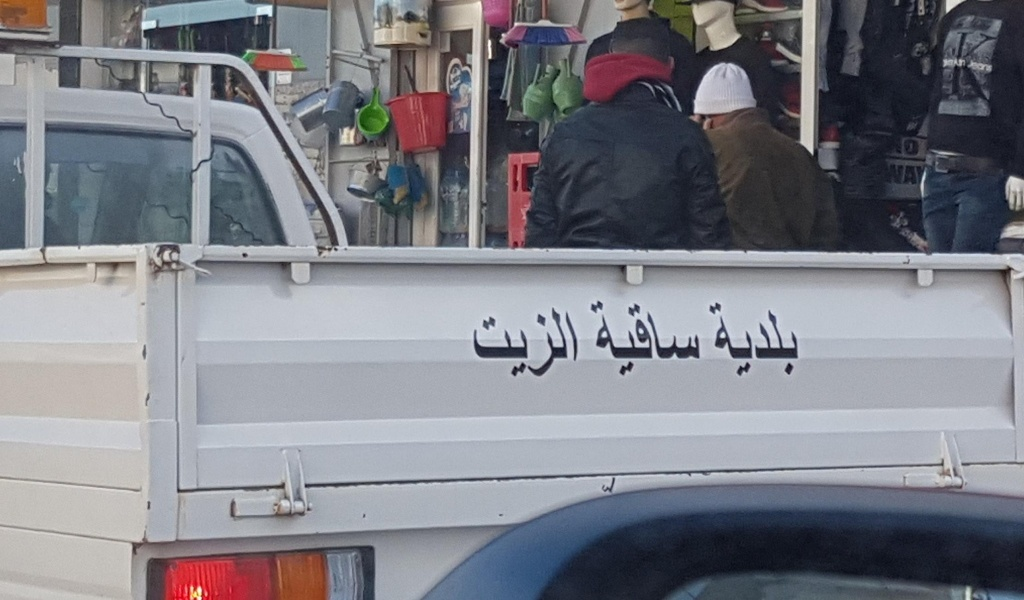text: (721, 301, 736, 378), (737, 301, 752, 378), (753, 301, 768, 378), (769, 301, 784, 378), (785, 301, 800, 378), (593, 301, 608, 377), (609, 301, 624, 377), (625, 301, 640, 377), (641, 301, 656, 377), (657, 301, 672, 377), (673, 301, 688, 377), (689, 301, 704, 377), (481, 308, 496, 379), (497, 308, 512, 379), (513, 308, 528, 379), (529, 308, 544, 379), (545, 308, 560, 379), (561, 308, 576, 379), (707, 301, 720, 378), (582, 301, 592, 377), (474, 308, 480, 379), (801, 301, 804, 378), (577, 308, 579, 379), (705, 301, 706, 377)
